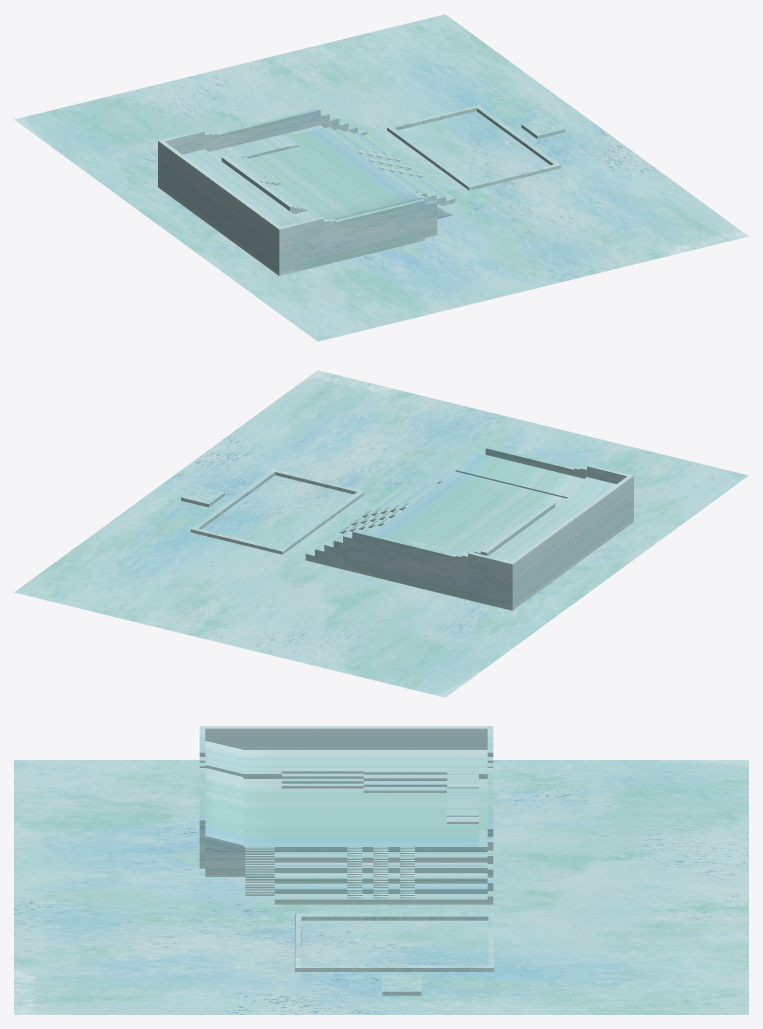
Rendered from stuc_draco_02.glb.
3 renders of one model, top to bottom at view 1: azimuth 30°, elevation 25°; view 2: azimuth 150°, elevation 25°; view 3: azimuth 270°, elevation 25°, orthographic. The views are drawn at different scales.
Visible parts, largest first — view 1: ground, Plane.1_2, bottom, Cube-Cube.1, Plane_1, Plane_5, Plane_4, Cube.7; view 2: ground, Plane.1_2, bottom, Plane.2_1, Cube-Cube.1, Plane_5, Cube.7; view 3: ground, bottom, Plane.1_2, Cube-Cube.1, Plane.2_1, Plane_5, Plane_4, Plane_1, Plane_3, Cube.7.
Part boxes in pixels (bbox=[...]): ground: bbox=[14, 14, 748, 341]; Plane.1_2: bbox=[158, 108, 424, 275]; bottom: bbox=[183, 125, 455, 237]; Cube-Cube.1: bbox=[387, 105, 561, 190]; Plane_1: bbox=[209, 135, 298, 160]; Plane_5: bbox=[221, 155, 280, 186]; Plane_4: bbox=[256, 181, 306, 213]; Cube.7: bbox=[521, 117, 564, 138]; ground: bbox=[14, 370, 748, 697]; Plane.1_2: bbox=[305, 446, 633, 610]; bottom: bbox=[311, 471, 616, 561]; Plane.2_1: bbox=[455, 451, 584, 498]; Cube-Cube.1: bbox=[190, 469, 364, 554]; Plane_5: bbox=[463, 526, 521, 555]; Cube.7: bbox=[181, 485, 224, 507]; ground: bbox=[14, 760, 748, 1014]; bottom: bbox=[205, 741, 487, 904]; Plane.1_2: bbox=[199, 726, 493, 904]; Cube-Cube.1: bbox=[295, 913, 494, 971]; Plane.2_1: bbox=[205, 768, 243, 846]; Plane_5: bbox=[363, 768, 447, 792]; Plane_4: bbox=[281, 768, 363, 788]; Plane_1: bbox=[447, 774, 478, 823]; Plane_3: bbox=[245, 847, 274, 895]; Cube.7: bbox=[382, 975, 421, 995].
Size of the model in its own units: 374 by 38.76 by 456.
1 material, 1 textured.
